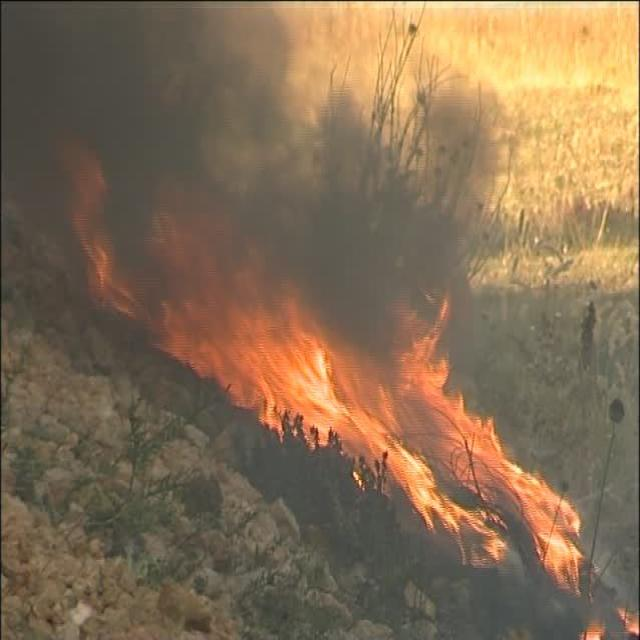Fire: (132, 243, 592, 588)
Smoke: (18, 6, 479, 280)
